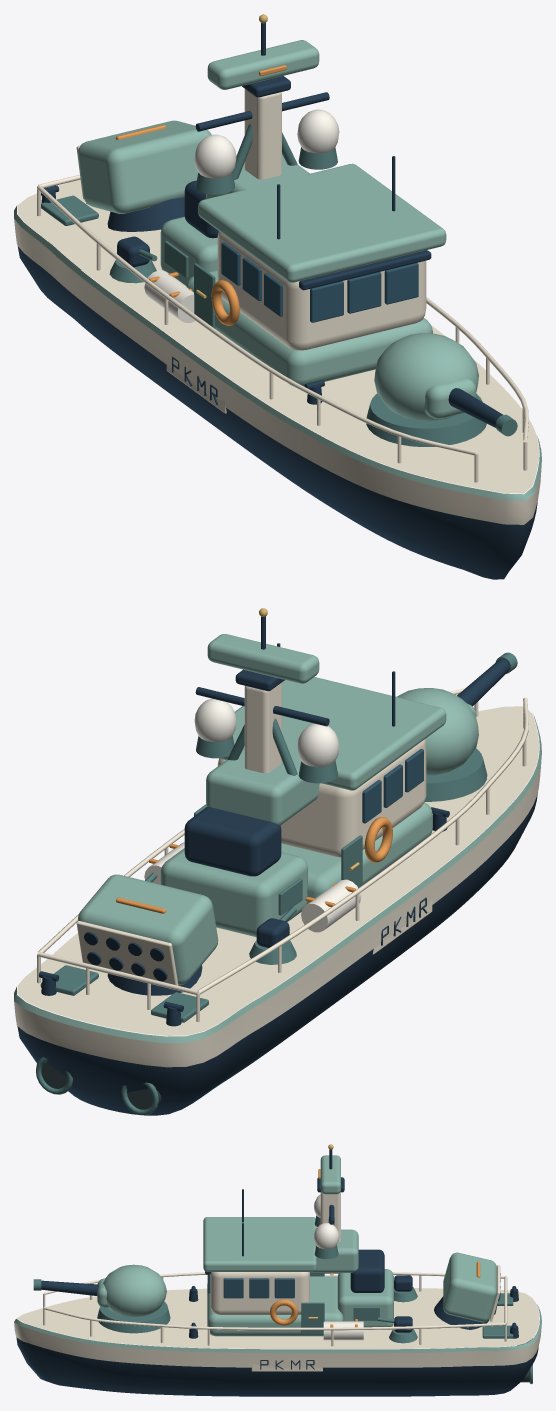
The model's file is PKMR-previous.glb.
The picture shows the model from 3 angles, top to bottom: view 1: azimuth 30°, elevation 25°; view 2: azimuth 150°, elevation 25°; view 3: azimuth 270°, elevation 25°; orthographic projection. The views are drawn at different scales.
Visible parts, largest first — view 1: Hull - cream, Bridge - mint, Hull - navy, Rounded launcher pack, Ivory wheelhouse, ForwardDeckTurret - mint, Bridge - glass, SafetyRails - cream, MastAndSensors - mint, Mint deck edge, ForwardDeckTurret - teal, MastAndSensors - white (+13 smaller); view 2: Hull - cream, Hull - navy, Bridge - mint, MastAndSensors - mint, Rounded launcher pack, Rear service cabin, Ivory wheelhouse, AftDeck - navy, SafetyRails - cream, Mint deck edge, ForwardDeckTurret - mint, MastAndSensors - white (+16 smaller); view 3: Hull - cream, Hull - navy, Bridge - mint, Rounded launcher pack, ForwardDeckTurret - mint, Ivory wheelhouse, SafetyRails - cream, Mint deck edge, MastAndSensors - mint, AftDeck - navy, Rear service cabin, Bridge - glass (+14 smaller).
Boxes of the visible parts, x1=… form: Hull - cream: x1=14, y1=179, x2=541, y2=524; Bridge - mint: x1=186, y1=163, x2=446, y2=386; Hull - navy: x1=17, y1=246, x2=537, y2=579; Rounded launcher pack: x1=78, y1=120, x2=211, y2=213; Ivory wheelhouse: x1=217, y1=231, x2=426, y2=350; ForwardDeckTurret - mint: x1=374, y1=333, x2=478, y2=420; Bridge - glass: x1=221, y1=242, x2=418, y2=322; SafetyRails - cream: x1=37, y1=174, x2=528, y2=482; MastAndSensors - mint: x1=206, y1=40, x2=319, y2=198; Mint deck edge: x1=14, y1=206, x2=541, y2=501; ForwardDeckTurret - teal: x1=366, y1=393, x2=517, y2=446; MastAndSensors - white: x1=194, y1=109, x2=339, y2=178; Hull - cream: x1=14, y1=706, x2=541, y2=1067; Hull - navy: x1=17, y1=792, x2=537, y2=1115; Bridge - mint: x1=219, y1=677, x2=446, y2=903; MastAndSensors - mint: x1=206, y1=634, x2=319, y2=825; Rounded launcher pack: x1=78, y1=874, x2=218, y2=985; Rear service cabin: x1=160, y1=848, x2=307, y2=937; Ivory wheelhouse: x1=217, y1=739, x2=426, y2=857; AftDeck - navy: x1=184, y1=807, x2=289, y2=947; SafetyRails - cream: x1=37, y1=688, x2=528, y2=1021; Mint deck edge: x1=14, y1=715, x2=541, y2=1043; ForwardDeckTurret - mint: x1=397, y1=688, x2=478, y2=775; MastAndSensors - white: x1=194, y1=698, x2=339, y2=767; Hull - cream: x1=14, y1=1288, x2=541, y2=1367; Hull - navy: x1=16, y1=1337, x2=538, y2=1396; Bridge - mint: x1=203, y1=1217, x2=343, y2=1336; Rounded launcher pack: x1=443, y1=1252, x2=496, y2=1322; ForwardDeckTurret - mint: x1=97, y1=1264, x2=166, y2=1317; Ivory wheelhouse: x1=210, y1=1272, x2=309, y2=1314; SafetyRails - cream: x1=43, y1=1272, x2=507, y2=1346; Mint deck edge: x1=14, y1=1304, x2=541, y2=1353; MastAndSensors - mint: x1=309, y1=1155, x2=358, y2=1272; AftDeck - navy: x1=350, y1=1249, x2=412, y2=1332; Rear service cabin: x1=337, y1=1269, x2=393, y2=1327; Bridge - glass: x1=207, y1=1274, x2=294, y2=1298.
Size of the model in its own units: 1.73 by 3.1 by 6.19.
